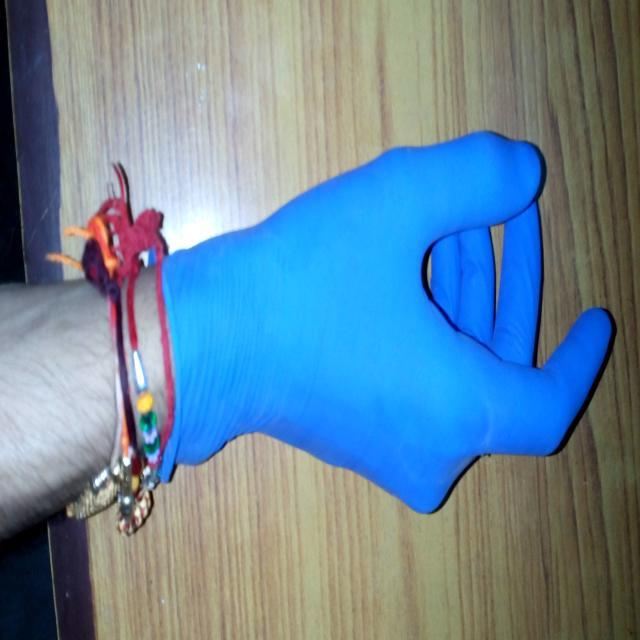gloved_hand: (136, 130, 616, 523)
